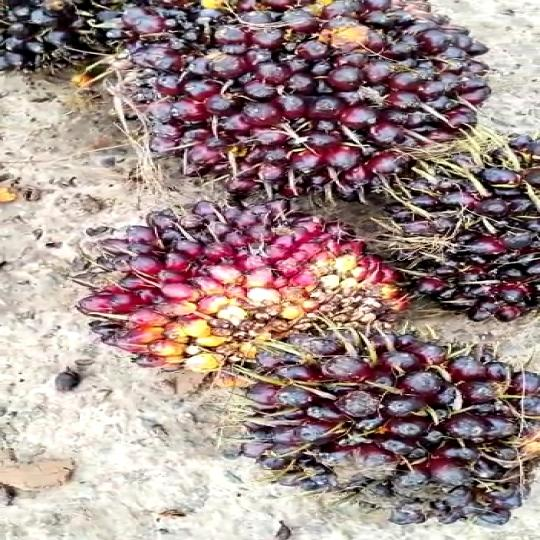kurang masak: (216, 327, 540, 539), (105, 5, 470, 184), (63, 195, 362, 359), (383, 145, 540, 319)
